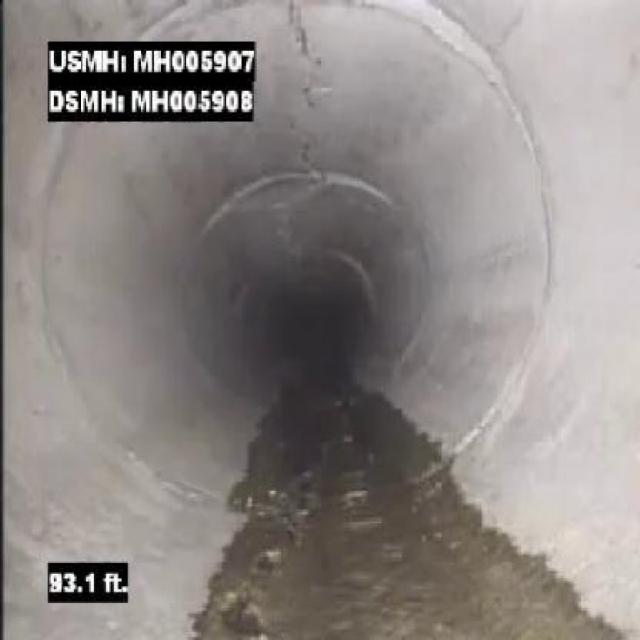Buckling: (212, 523, 305, 639)
Crack: (283, 3, 332, 115)
